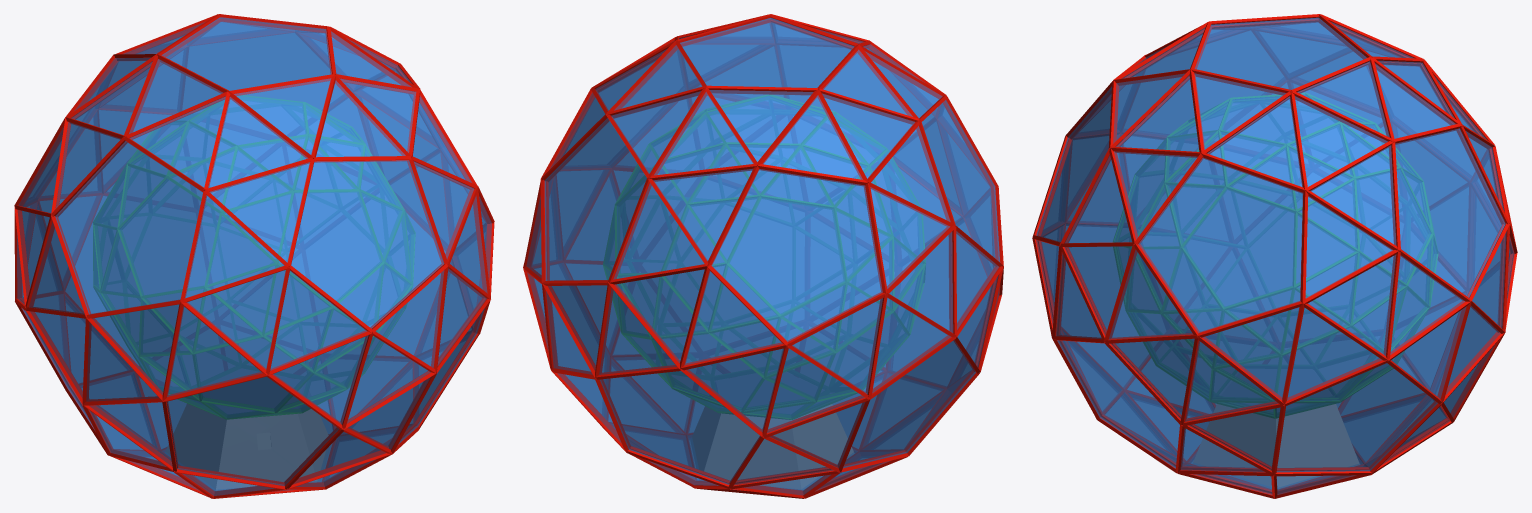
File: 双球和新手关1.glb
3 views of the same model, side by side, from view 1: azimuth 30°, elevation 25°; view 2: azimuth 150°, elevation 25°; view 3: azimuth 270°, elevation 25° (orthographic).
Parts seen in each view (by area): view 1: SnubEdges.002, Pent_08.002, Pent_06.002, Pent_12.002, SnubEdges.001, Pent_10.003, Pent_07.002, Pent_02.002, Pent_08, Pent_06, Tri_057.002, Tri_061.002 (+87 smaller); view 2: SnubEdges.002, Pent_01.002, Pent_02.002, Pent_03.002, SnubEdges.001, Pent_01, Pent_07.002, Pent_09.002, Pent_10.003, Pent_12.002, Pent_08.002, Pent_06.002 (+77 smaller); view 3: SnubEdges.002, Pent_04.002, Pent_02.002, Pent_05.002, SnubEdges.001, Pent_04, Pent_07.002, Pent_10.003, Pent_06.002, Pent_11.002, Pent_12.002, Pent_08.002 (+83 smaller).
Part boxes in pixels (<box>): SnubEdges.002: <box>14,14,494,498</box>; Pent_08.002: <box>291,160,444,328</box>; Pent_06.002: <box>55,141,202,314</box>; Pent_12.002: <box>167,376,338,486</box>; SnubEdges.001: <box>93,95,415,419</box>; Pent_10.003: <box>166,404,328,489</box>; Pent_07.002: <box>161,17,331,90</box>; Pent_02.002: <box>183,33,344,109</box>; Pent_08: <box>279,192,381,300</box>; Pent_06: <box>120,179,218,294</box>; Tri_057.002: <box>185,195,284,298</box>; Tri_061.002: <box>209,162,309,262</box>; SnubEdges.002: <box>523,14,1003,498</box>; Pent_01.002: <box>711,169,882,341</box>; Pent_02.002: <box>544,118,646,280</box>; Pent_03.002: <box>600,371,760,484</box>; SnubEdges.001: <box>603,95,925,419</box>; Pent_01: <box>730,199,843,313</box>; Pent_07.002: <box>680,18,854,87</box>; Pent_09.002: <box>843,340,975,468</box>; Pent_10.003: <box>692,404,853,489</box>; Pent_12.002: <box>890,221,989,386</box>; Pent_08.002: <box>779,45,933,150</box>; Pent_06.002: <box>921,100,1000,262</box>; SnubEdges.002: <box>1032,14,1517,498</box>; Pent_04.002: <box>1138,157,1303,332</box>; Pent_02.002: <box>1395,128,1505,297</box>; Pent_05.002: <box>1276,363,1437,472</box>; SnubEdges.001: <box>1113,93,1437,418</box>; Pent_04: <box>1185,190,1293,306</box>; Pent_07.002: <box>1195,17,1366,89</box>; Pent_10.003: <box>1193,404,1358,487</box>; Pent_06.002: <box>1123,31,1284,135</box>; Pent_11.002: <box>1057,340,1179,468</box>; Pent_12.002: <box>1061,226,1148,387</box>; Pent_08.002: <box>1036,86,1111,242</box>.
Bounding box in the file's own units: 27.1 × 25.45 × 27.42.
